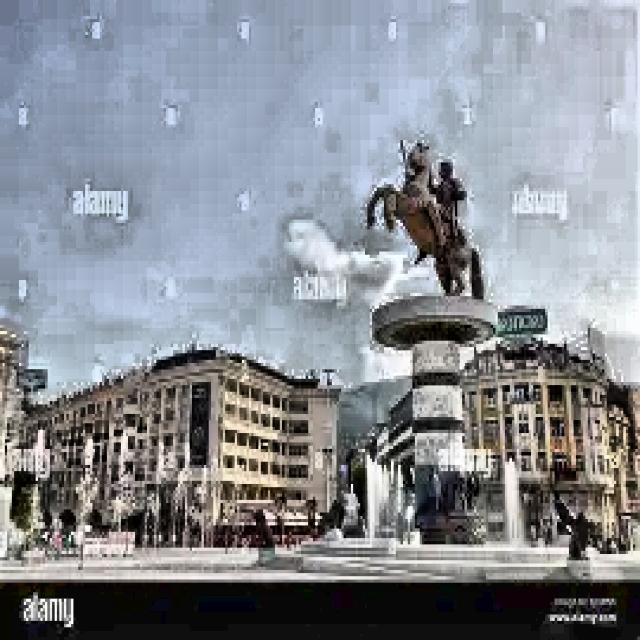alexander the great monument: (354, 125, 504, 571)
